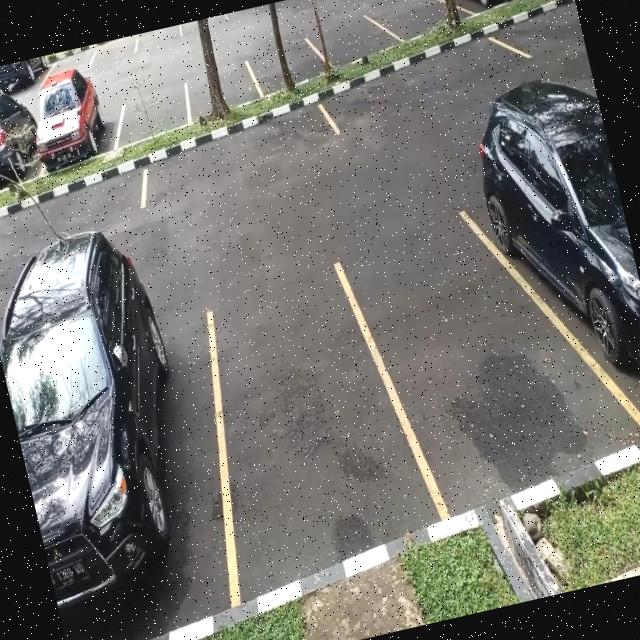empty: (185, 261, 420, 573), (352, 213, 564, 522), (315, 25, 536, 142), (128, 98, 344, 210), (108, 73, 196, 146), (306, 8, 389, 73), (178, 57, 260, 121), (247, 35, 322, 96), (375, 0, 450, 44)
occupied: (0, 296, 259, 640), (488, 124, 640, 443), (24, 72, 124, 174), (449, 0, 543, 15)
